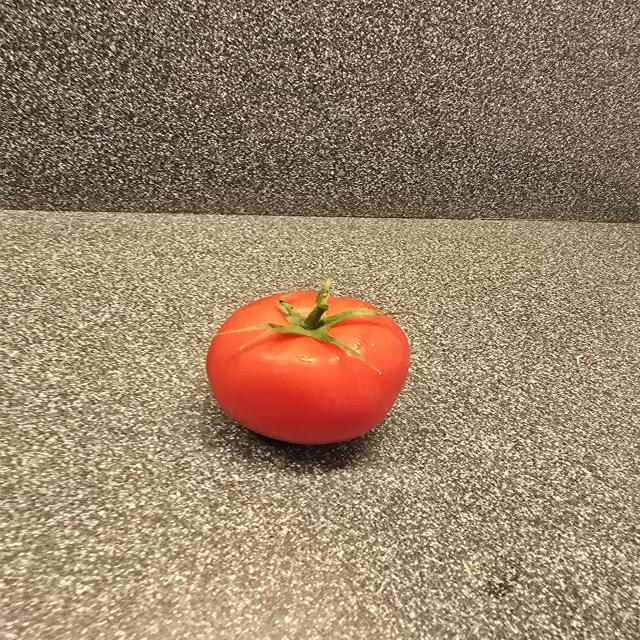Tomato: (201, 281, 418, 449)
